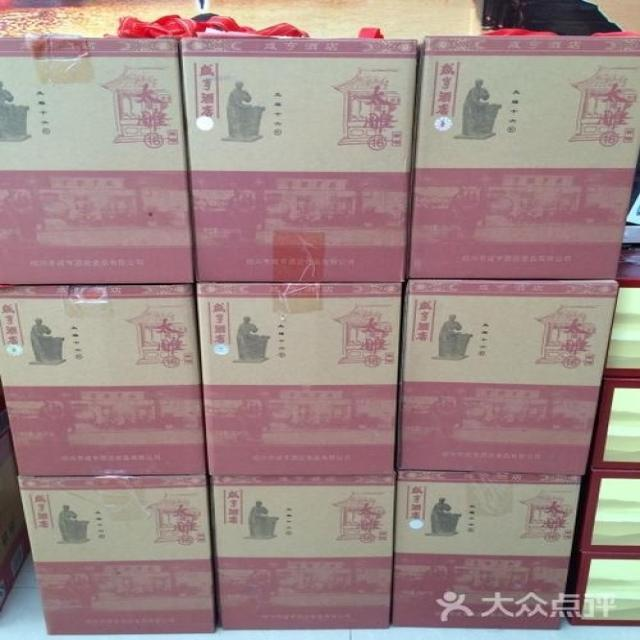box: (178, 37, 419, 282), (406, 36, 640, 279), (0, 37, 195, 285), (397, 279, 621, 475), (0, 282, 209, 475), (195, 282, 402, 474), (18, 475, 218, 635), (390, 470, 581, 629), (207, 474, 394, 630)
